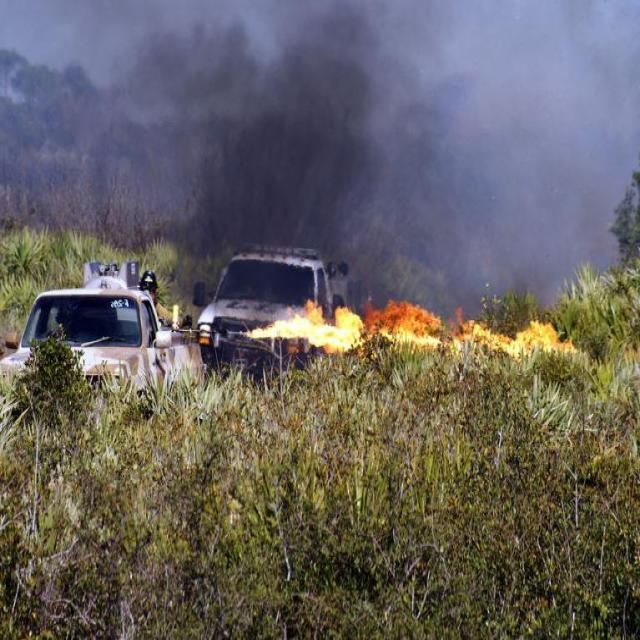Fire: (242, 296, 572, 356)
Smoke: (82, 1, 640, 311)
